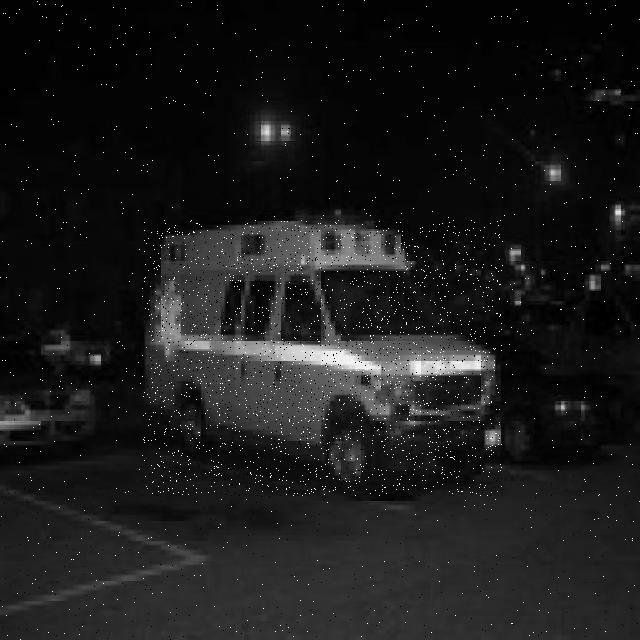Ambulance: (142, 220, 502, 496)
